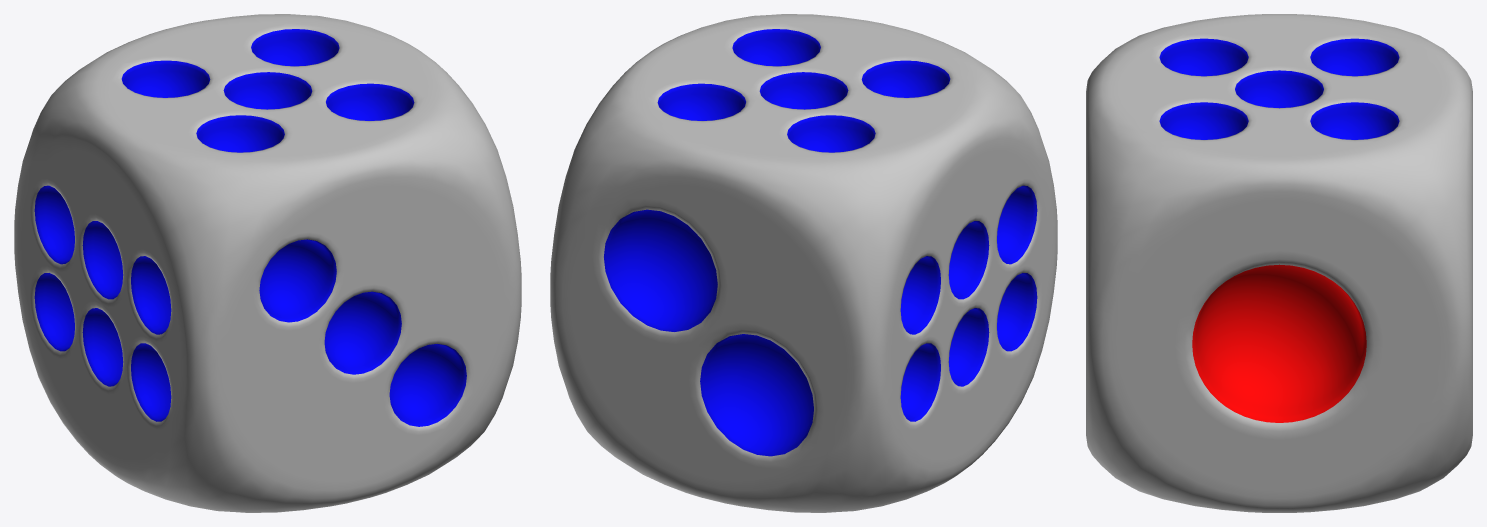
3 views of the same model, side by side, from view 1: azimuth 30°, elevation 25°; view 2: azimuth 150°, elevation 25°; view 3: azimuth 270°, elevation 25° (orthographic).
Visible parts, largest first — view 1: Rectangle003.001; view 2: Rectangle003.001; view 3: Rectangle003.001.
Part boxes in pixels (x1=…): Rectangle003.001: x1=14, y1=14, x2=521, y2=512; Rectangle003.001: x1=550, y1=14, x2=1057, y2=512; Rectangle003.001: x1=1086, y1=14, x2=1472, y2=512.
Size of the model in its own units: 0.5 by 0.5 by 0.5.
